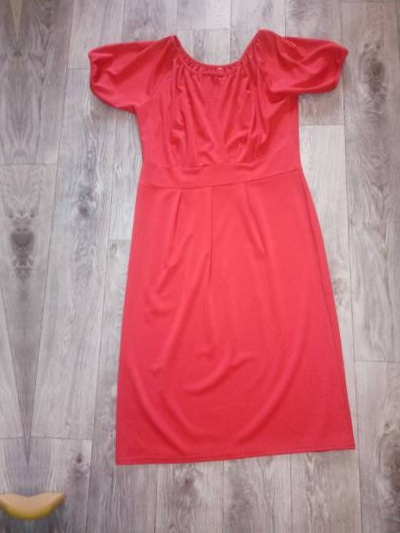Dress: (69, 5, 386, 476)
